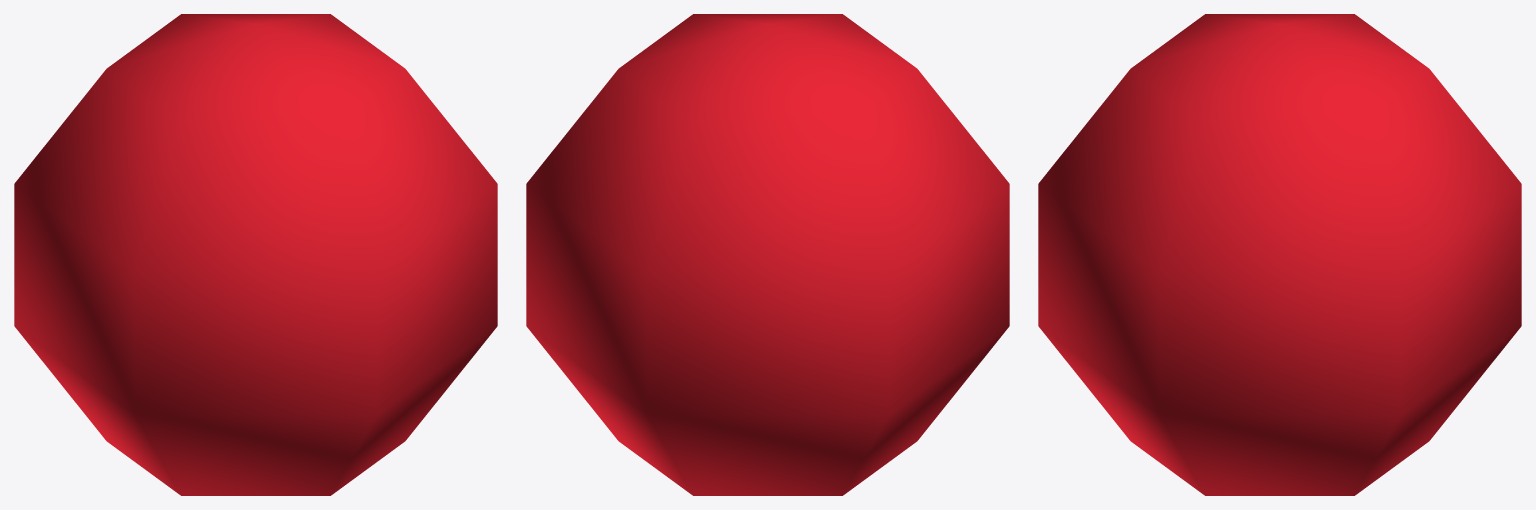
File: Bullet.gltf
3 views of the same model, side by side, from view 1: azimuth 30°, elevation 25°; view 2: azimuth 150°, elevation 25°; view 3: azimuth 270°, elevation 25° (orthographic).
Visible parts, largest first — view 1: 球; view 2: 球; view 3: 球.
Boxes of the visible parts, <box> form: 球: <box>14,14,497,495</box>; 球: <box>526,14,1009,495</box>; 球: <box>1038,14,1521,495</box>.
Size of the model in its own units: 1.65 by 2 by 1.9.
